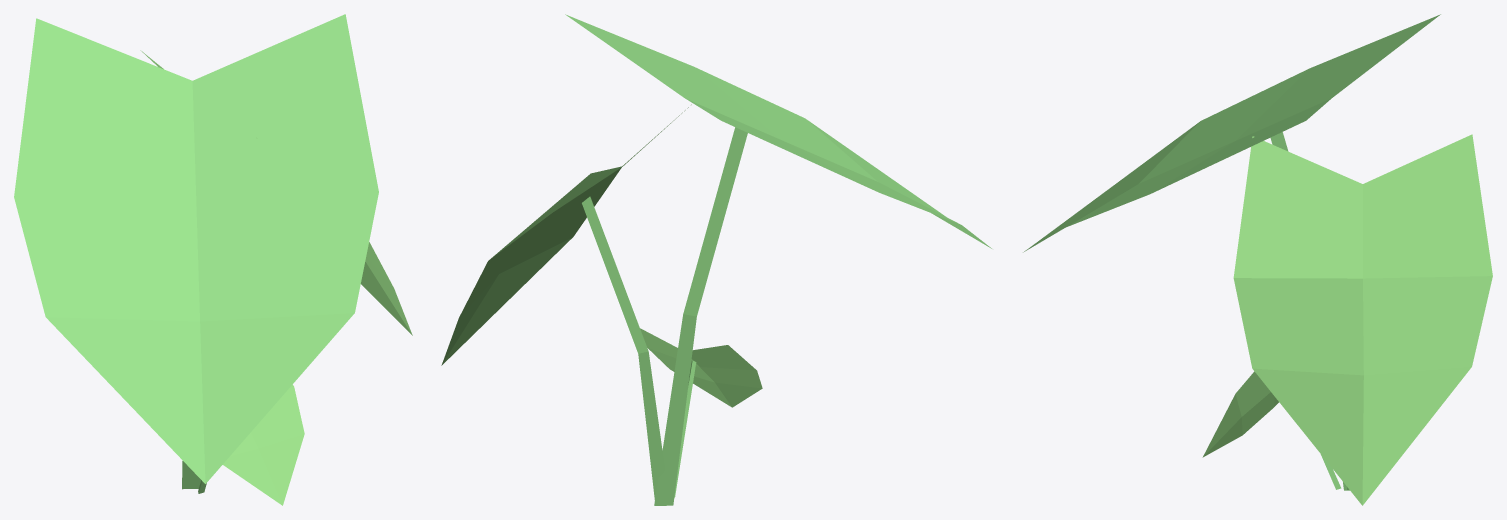
Rendered from Plant_c_OneS_03.fbx.
The picture shows the model from 3 angles, left to right: view 1: azimuth 30°, elevation 25°; view 2: azimuth 150°, elevation 25°; view 3: azimuth 270°, elevation 25°; orthographic projection. The views are drawn at different scales.
Parts seen in each view (by area): view 1: Plant_c_OneS_03; view 2: Plant_c_OneS_03; view 3: Plant_c_OneS_03.
Boxes of the visible parts, <box> form: Plant_c_OneS_03: <box>14,14,412,505</box>; Plant_c_OneS_03: <box>441,14,991,505</box>; Plant_c_OneS_03: <box>1023,14,1492,505</box>.
Size of the model in its own units: 53.74 by 51.93 by 52.05.
